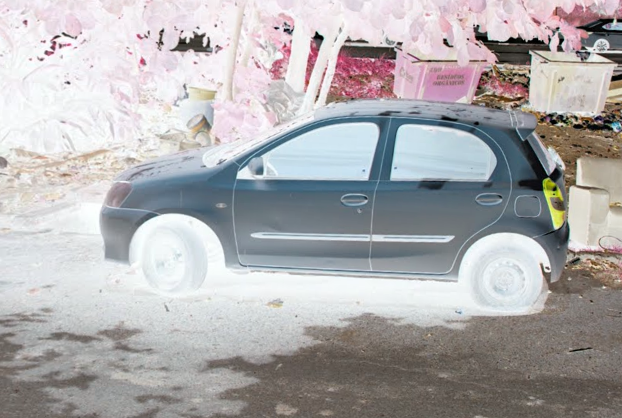car: (96, 97, 573, 317)
